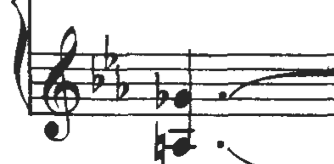flat: (88, 54, 106, 98), (112, 62, 129, 105), (102, 31, 119, 71)
treble_clef: (35, 18, 88, 151)
